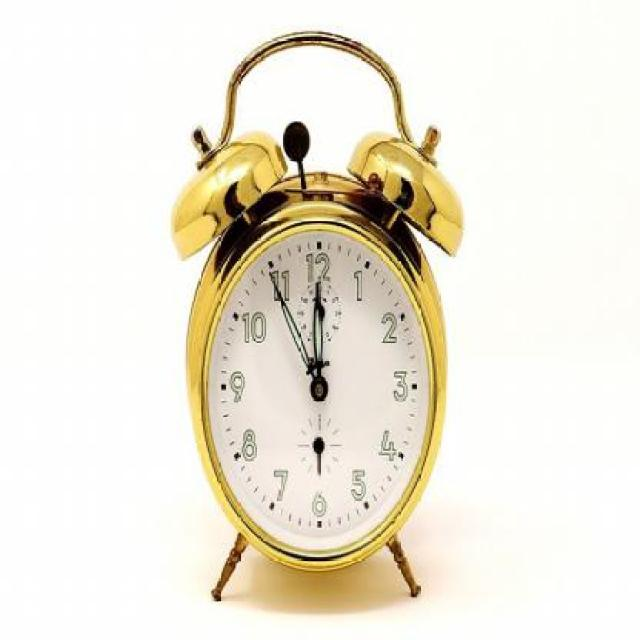clock: (195, 221, 439, 573)
